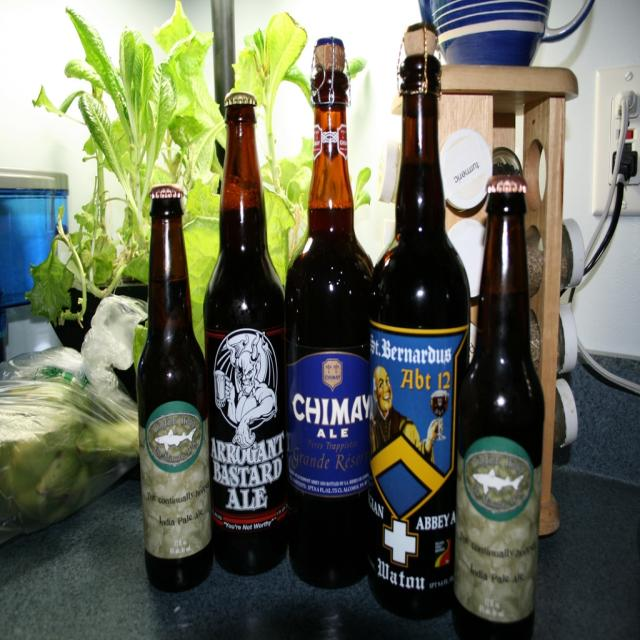chimay: (287, 354, 371, 499)
